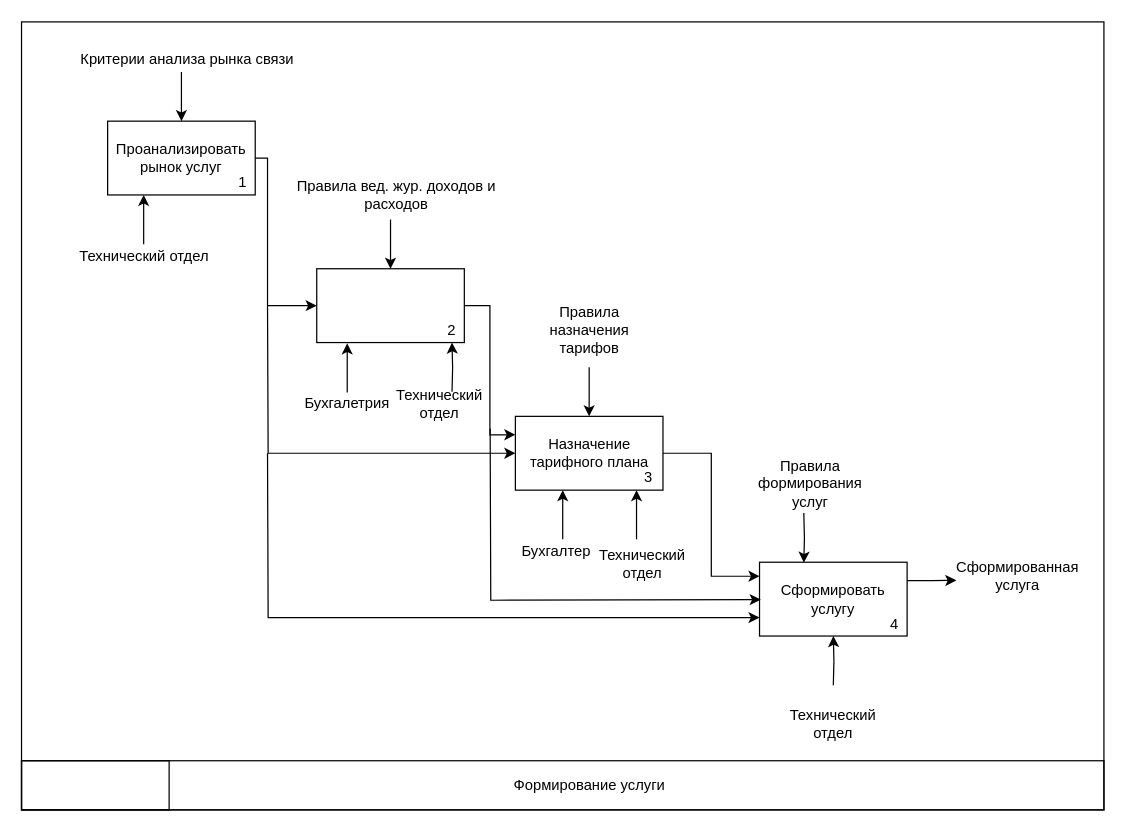
Some shapes in this 1125 by 831 pixel diagram are drawn without their labels. The shapes that lost their labels are listed below. From the top down, each one's box as (x1, y1, x2, y2) in pixels, then its label:
(315, 268, 464, 343): Произвести учёт воз-тей комп. на основ. бюджета
(20, 760, 169, 810): NODE: A1
